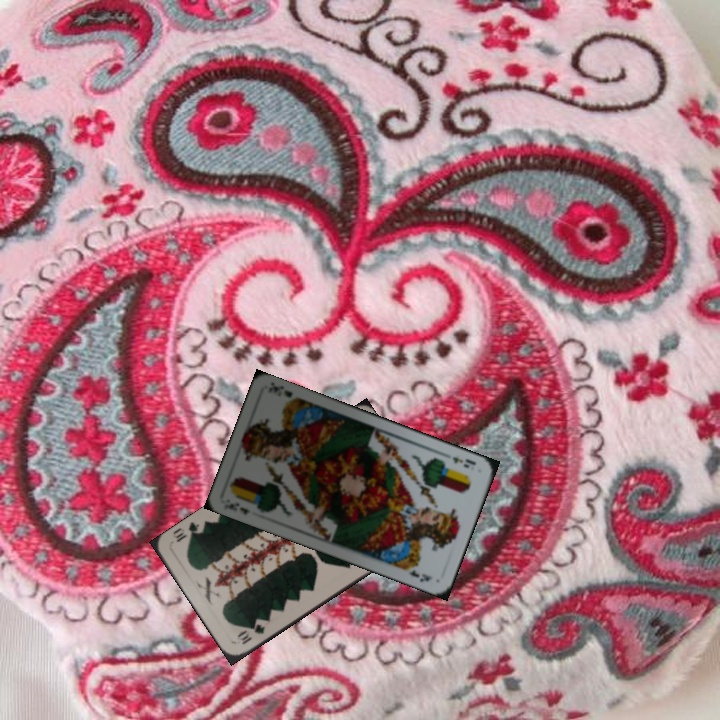EK: (220, 499, 253, 517), (448, 453, 478, 470)
G10: (233, 620, 268, 647)
